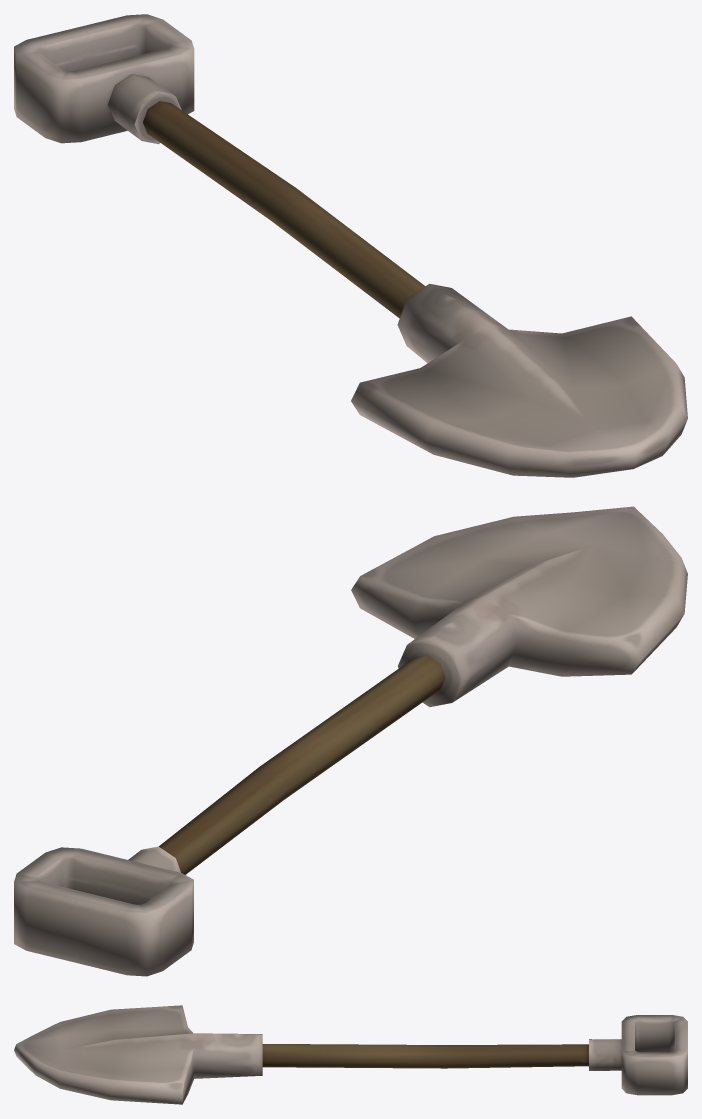
File: O_Shovel_A.fbx
The picture shows the model from 3 angles, top to bottom: view 1: azimuth 30°, elevation 25°; view 2: azimuth 150°, elevation 25°; view 3: azimuth 270°, elevation 25°; orthographic projection. The views are drawn at different scales.
Parts seen in each view (by area): view 1: O_Shovel_A; view 2: O_Shovel_A; view 3: O_Shovel_A.
Boxes of the visible parts, x1,y1,x2,y2 form: O_Shovel_A: (14,14,687,477); O_Shovel_A: (14,506,687,976); O_Shovel_A: (14,1005,687,1104).
Size of the model in its own units: 38.3 by 8.77 by 128.
